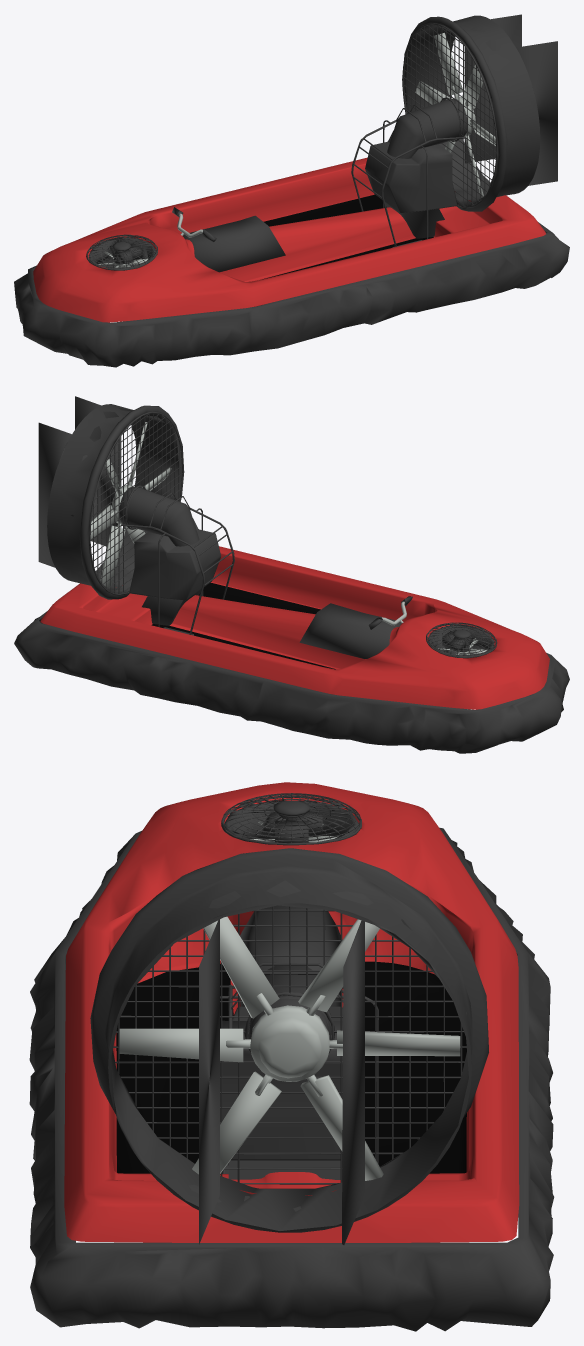
The model's file is Rowing.FBX.
3 renders of one model, top to bottom at view 1: azimuth 30°, elevation 25°; view 2: azimuth 150°, elevation 25°; view 3: azimuth 270°, elevation 25°, orthographic. The views are drawn at different scales.
Parts seen in each view (by area): view 1: arch48_026_obj_00, arch48_026_obj_01, arch48_026_obj_03, arch48_026_obj_04, Back; view 2: arch48_026_obj_00, arch48_026_obj_01, arch48_026_obj_03, arch48_026_obj_04, Back; view 3: arch48_026_obj_00, arch48_026_obj_01, arch48_026_obj_03, arch48_026_obj_04, Back.
Boxes of the visible parts, x1,y1,x2,y2 form: arch48_026_obj_00: (33, 157, 545, 322); arch48_026_obj_01: (14, 196, 569, 367); arch48_026_obj_03: (89, 14, 557, 269); arch48_026_obj_04: (86, 23, 497, 270); Back: (415, 32, 495, 197); arch48_026_obj_00: (40, 546, 549, 709); arch48_026_obj_01: (14, 596, 569, 753); arch48_026_obj_03: (38, 396, 494, 656); arch48_026_obj_04: (89, 411, 497, 658); Back: (90, 422, 171, 588); arch48_026_obj_00: (64, 782, 519, 1242); arch48_026_obj_01: (29, 827, 554, 1331); arch48_026_obj_03: (90, 800, 488, 1244); arch48_026_obj_04: (113, 793, 466, 1188); Back: (119, 916, 460, 1180).
Bounding box in the file's own units: 142 × 58.93 × 63.24.
